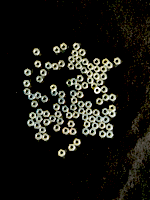nut: (58, 149, 66, 158), (73, 139, 81, 147), (106, 131, 114, 139), (82, 128, 90, 136), (89, 128, 97, 136), (65, 112, 73, 120), (85, 108, 93, 116), (102, 108, 110, 116), (23, 88, 31, 96), (96, 98, 104, 106), (102, 94, 110, 102), (58, 60, 66, 68), (100, 73, 108, 81), (93, 58, 101, 66), (68, 145, 76, 152), (35, 133, 42, 141), (42, 134, 49, 142), (99, 131, 107, 138), (53, 125, 61, 132), (62, 128, 70, 135), (70, 128, 77, 136), (67, 121, 75, 128), (34, 122, 41, 130), (27, 120, 35, 127), (84, 121, 91, 129), (99, 122, 106, 130), (56, 118, 64, 125), (43, 119, 51, 126), (35, 116, 43, 123), (29, 112, 36, 120), (36, 109, 44, 116), (54, 111, 62, 118), (72, 112, 80, 119), (96, 115, 103, 123), (103, 116, 110, 124), (78, 108, 86, 115), (93, 109, 100, 117), (85, 101, 93, 108), (31, 101, 39, 108), (58, 91, 66, 98), (34, 92, 41, 100), (28, 93, 35, 101), (23, 80, 31, 87), (70, 90, 77, 98), (77, 91, 84, 99), (110, 94, 117, 102), (101, 86, 108, 94), (96, 79, 104, 86), (82, 82, 89, 90), (76, 75, 84, 82), (36, 76, 44, 83), (40, 69, 47, 77), (24, 69, 31, 77), (34, 61, 42, 68), (45, 62, 52, 70), (52, 63, 59, 71), (53, 46, 60, 54), (60, 43, 67, 51), (67, 63, 75, 70), (80, 67, 88, 74), (75, 63, 83, 70), (100, 66, 108, 73), (102, 59, 110, 66), (94, 65, 101, 73), (87, 63, 95, 70), (75, 56, 83, 63), (71, 50, 79, 57), (39, 127, 46, 134), (92, 123, 99, 130), (106, 124, 113, 131), (49, 116, 56, 123), (43, 111, 50, 118), (82, 114, 89, 121), (89, 116, 96, 123), (109, 105, 116, 112), (62, 106, 69, 113), (70, 104, 77, 111), (78, 101, 85, 108), (53, 104, 60, 111), (58, 98, 65, 105), (50, 85, 57, 92), (41, 96, 48, 103), (71, 97, 78, 104), (94, 87, 101, 94), (91, 83, 98, 90), (75, 84, 82, 91), (66, 80, 73, 87), (71, 78, 78, 85), (87, 77, 94, 84), (33, 49, 40, 56), (68, 56, 75, 63), (93, 73, 100, 80), (114, 58, 121, 65), (106, 62, 113, 69), (82, 59, 89, 66), (79, 49, 86, 56), (73, 43, 80, 50), (86, 71, 94, 77), (109, 112, 116, 118), (50, 91, 58, 96)
